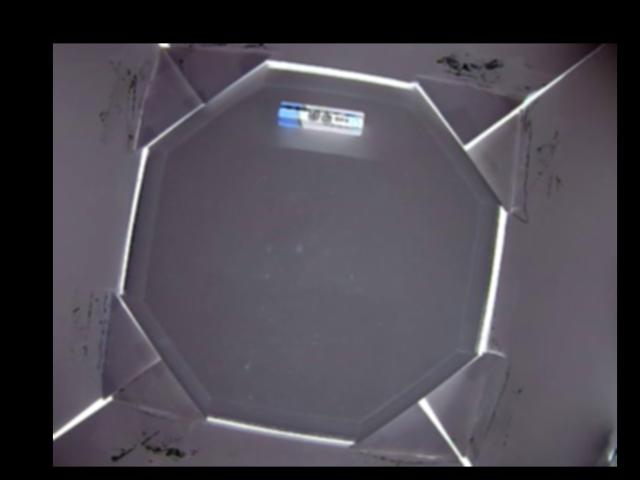Battery: (277, 99, 364, 135)
